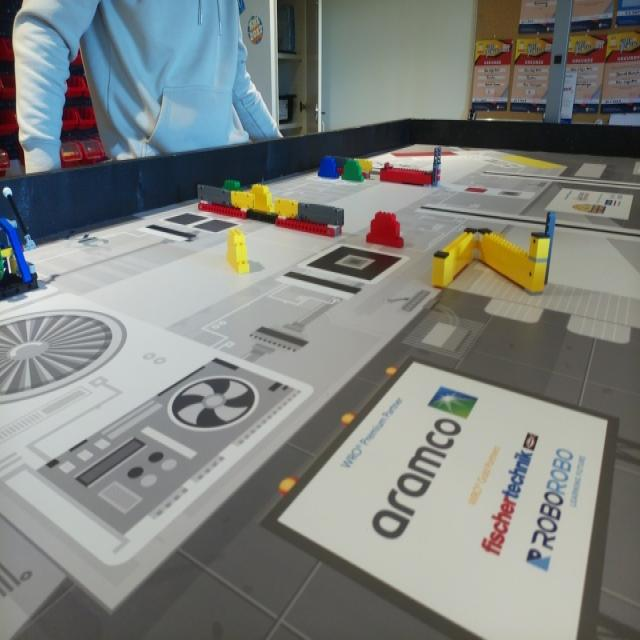blau: (319, 160, 337, 179)
gruen: (342, 157, 364, 183), (224, 180, 241, 190)
rot: (365, 210, 405, 249)
yellow: (227, 230, 249, 274), (253, 184, 271, 211)
